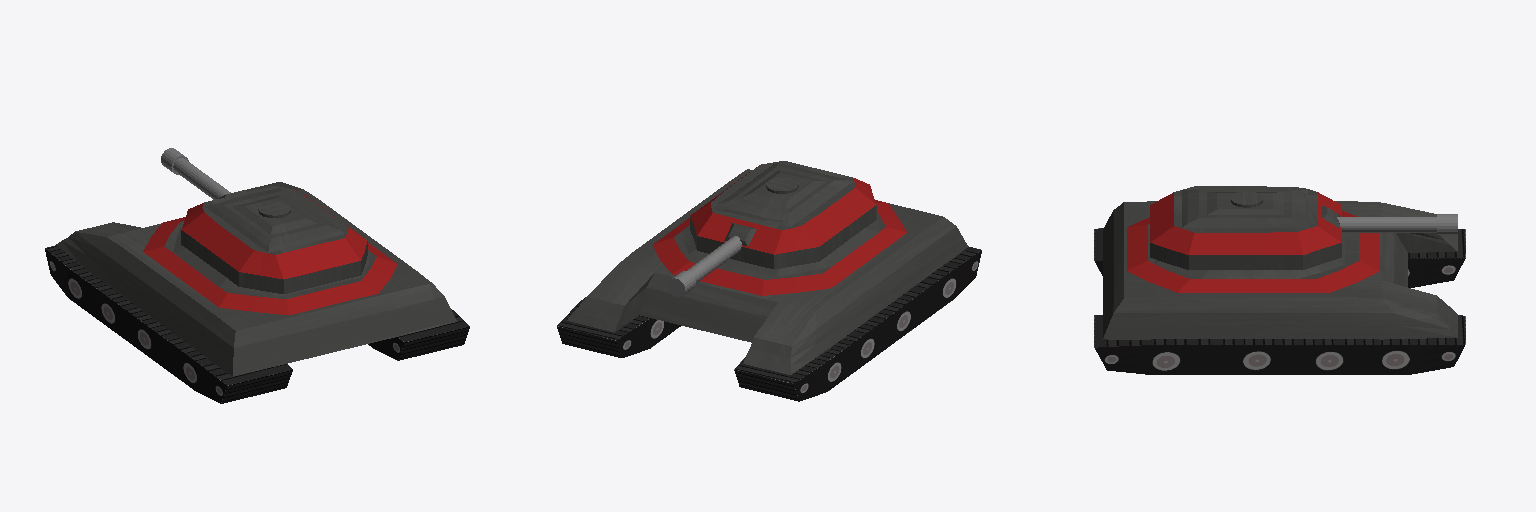
The picture shows the model from 3 angles: view 1: azimuth 30°, elevation 25°; view 2: azimuth 150°, elevation 25°; view 3: azimuth 270°, elevation 25°; orthographic projection.
Parts seen in each view (by area): view 1: Tank, Tank Turret; view 2: Tank, Tank Turret; view 3: Tank, Tank Turret.
Part boxes in pixels (left/top/right/bottom): Tank: left=45, top=182, right=469, bottom=403; Tank Turret: left=161, top=148, right=367, bottom=293; Tank: left=557, top=169, right=981, bottom=401; Tank Turret: left=668, top=161, right=876, bottom=296; Tank: left=1094, top=201, right=1465, bottom=374; Tank Turret: left=1150, top=186, right=1457, bottom=269.
Size of the model in its own units: 10.98 by 4.99 by 14.28.
Materials: 6 (2 with a texture image).